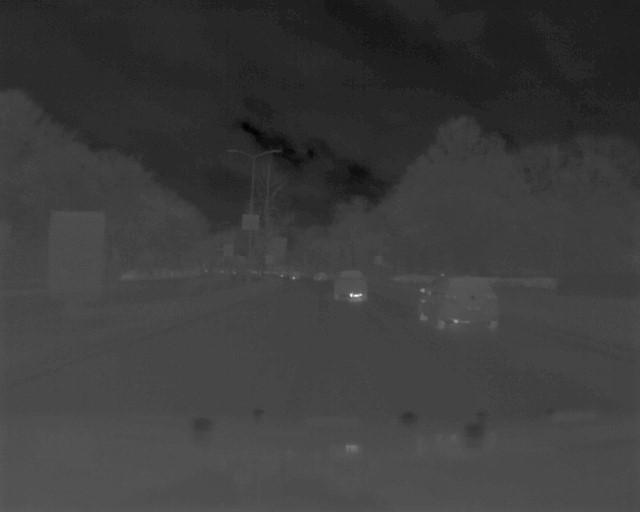car: (416, 274, 505, 333), (332, 267, 369, 304)
